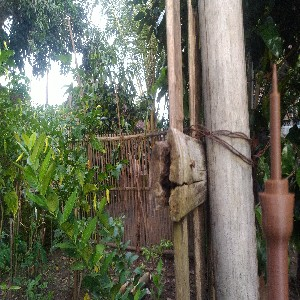solder: (257, 62, 295, 300)
